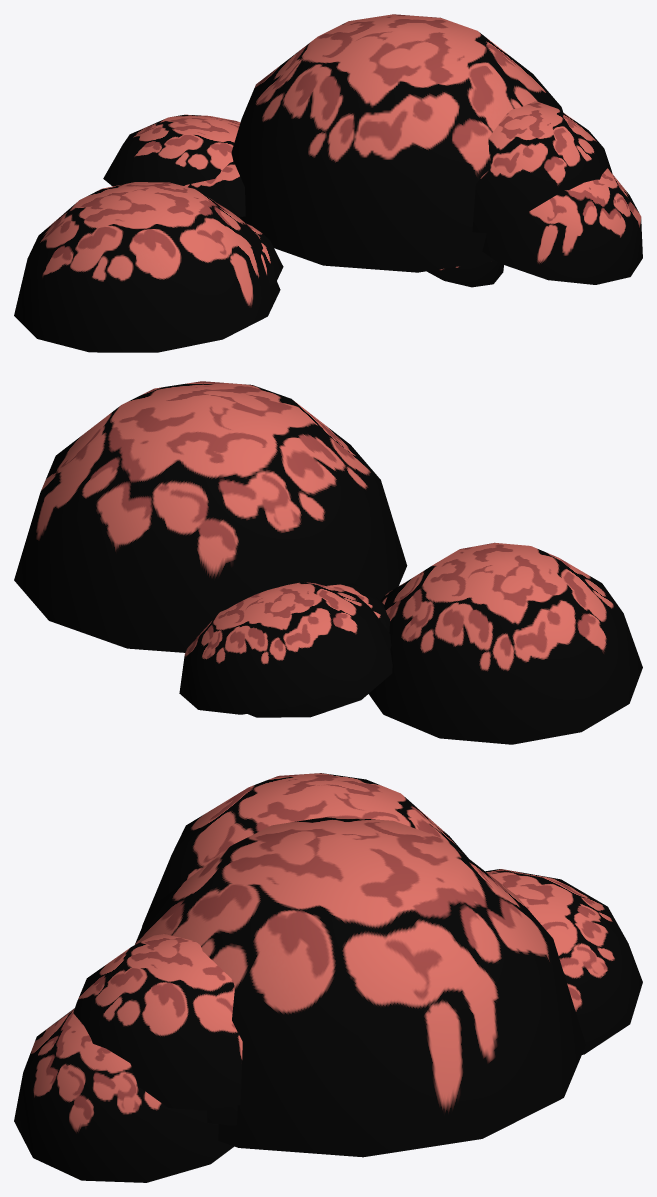
The model's file is SM_LeafSpiralTree01.fbx.
3 renders of one model, top to bottom at view 1: azimuth 30°, elevation 25°; view 2: azimuth 150°, elevation 25°; view 3: azimuth 270°, elevation 25°, orthographic. The views are drawn at different scales.
Visible parts, largest first — view 1: Sphere004; view 2: Sphere004; view 3: Sphere004.
Part boxes in pixels (bbox=[...]): Sphere004: bbox=[14, 14, 642, 352]; Sphere004: bbox=[14, 381, 642, 744]; Sphere004: bbox=[14, 773, 642, 1182].
Size of the model in its own units: 2160 by 806 by 1653.
